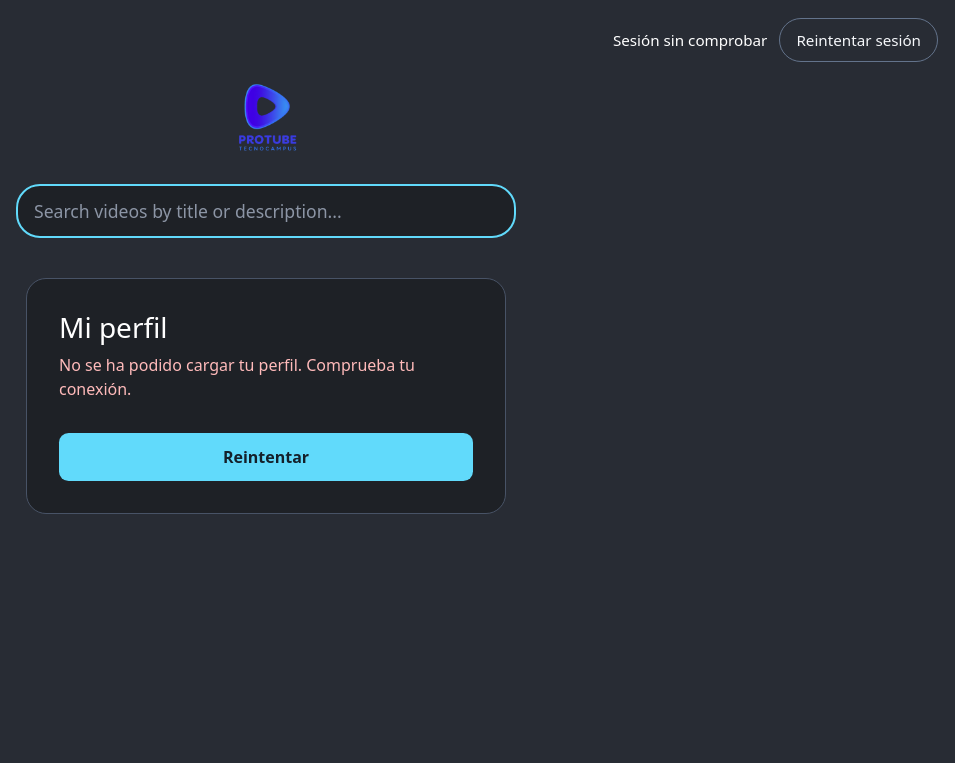
Test: Authentication navigation and pages › shows a recoverable profile error without exposing stale personal data
expect the message shows "No se ha podido cargar tu perfil": met, box [59,354,415,400]
expect the text "user@example.test" is not shown: met
Click the button "Reintentar": point(266, 457) [59,433,473,481]
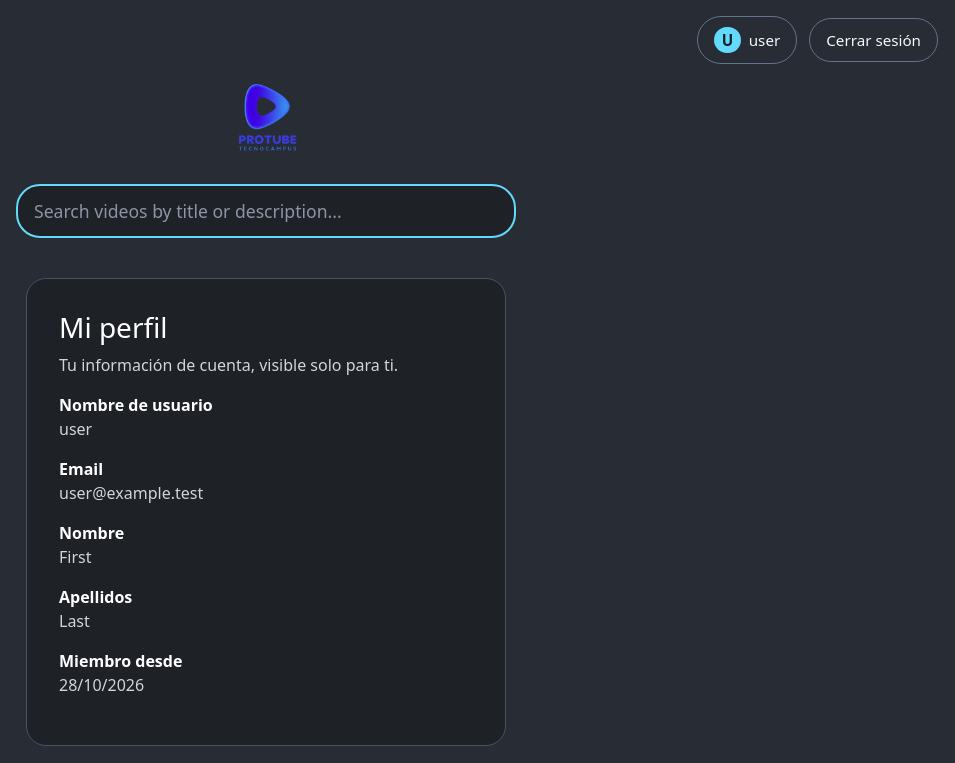
expect the heading "Mi perfil" is shown: met, box [59,308,168,346]
expect the text "user@example.test" is shown: met, box [59,482,203,504]
